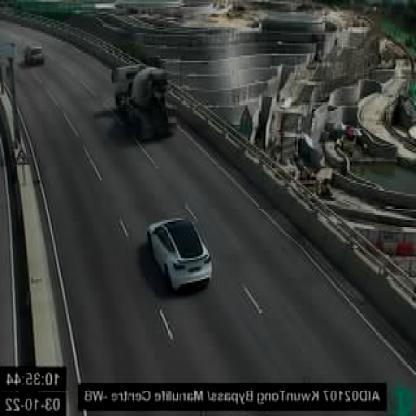Car: (148, 217, 212, 286), (26, 42, 47, 64)
Truck: (113, 61, 179, 137)
